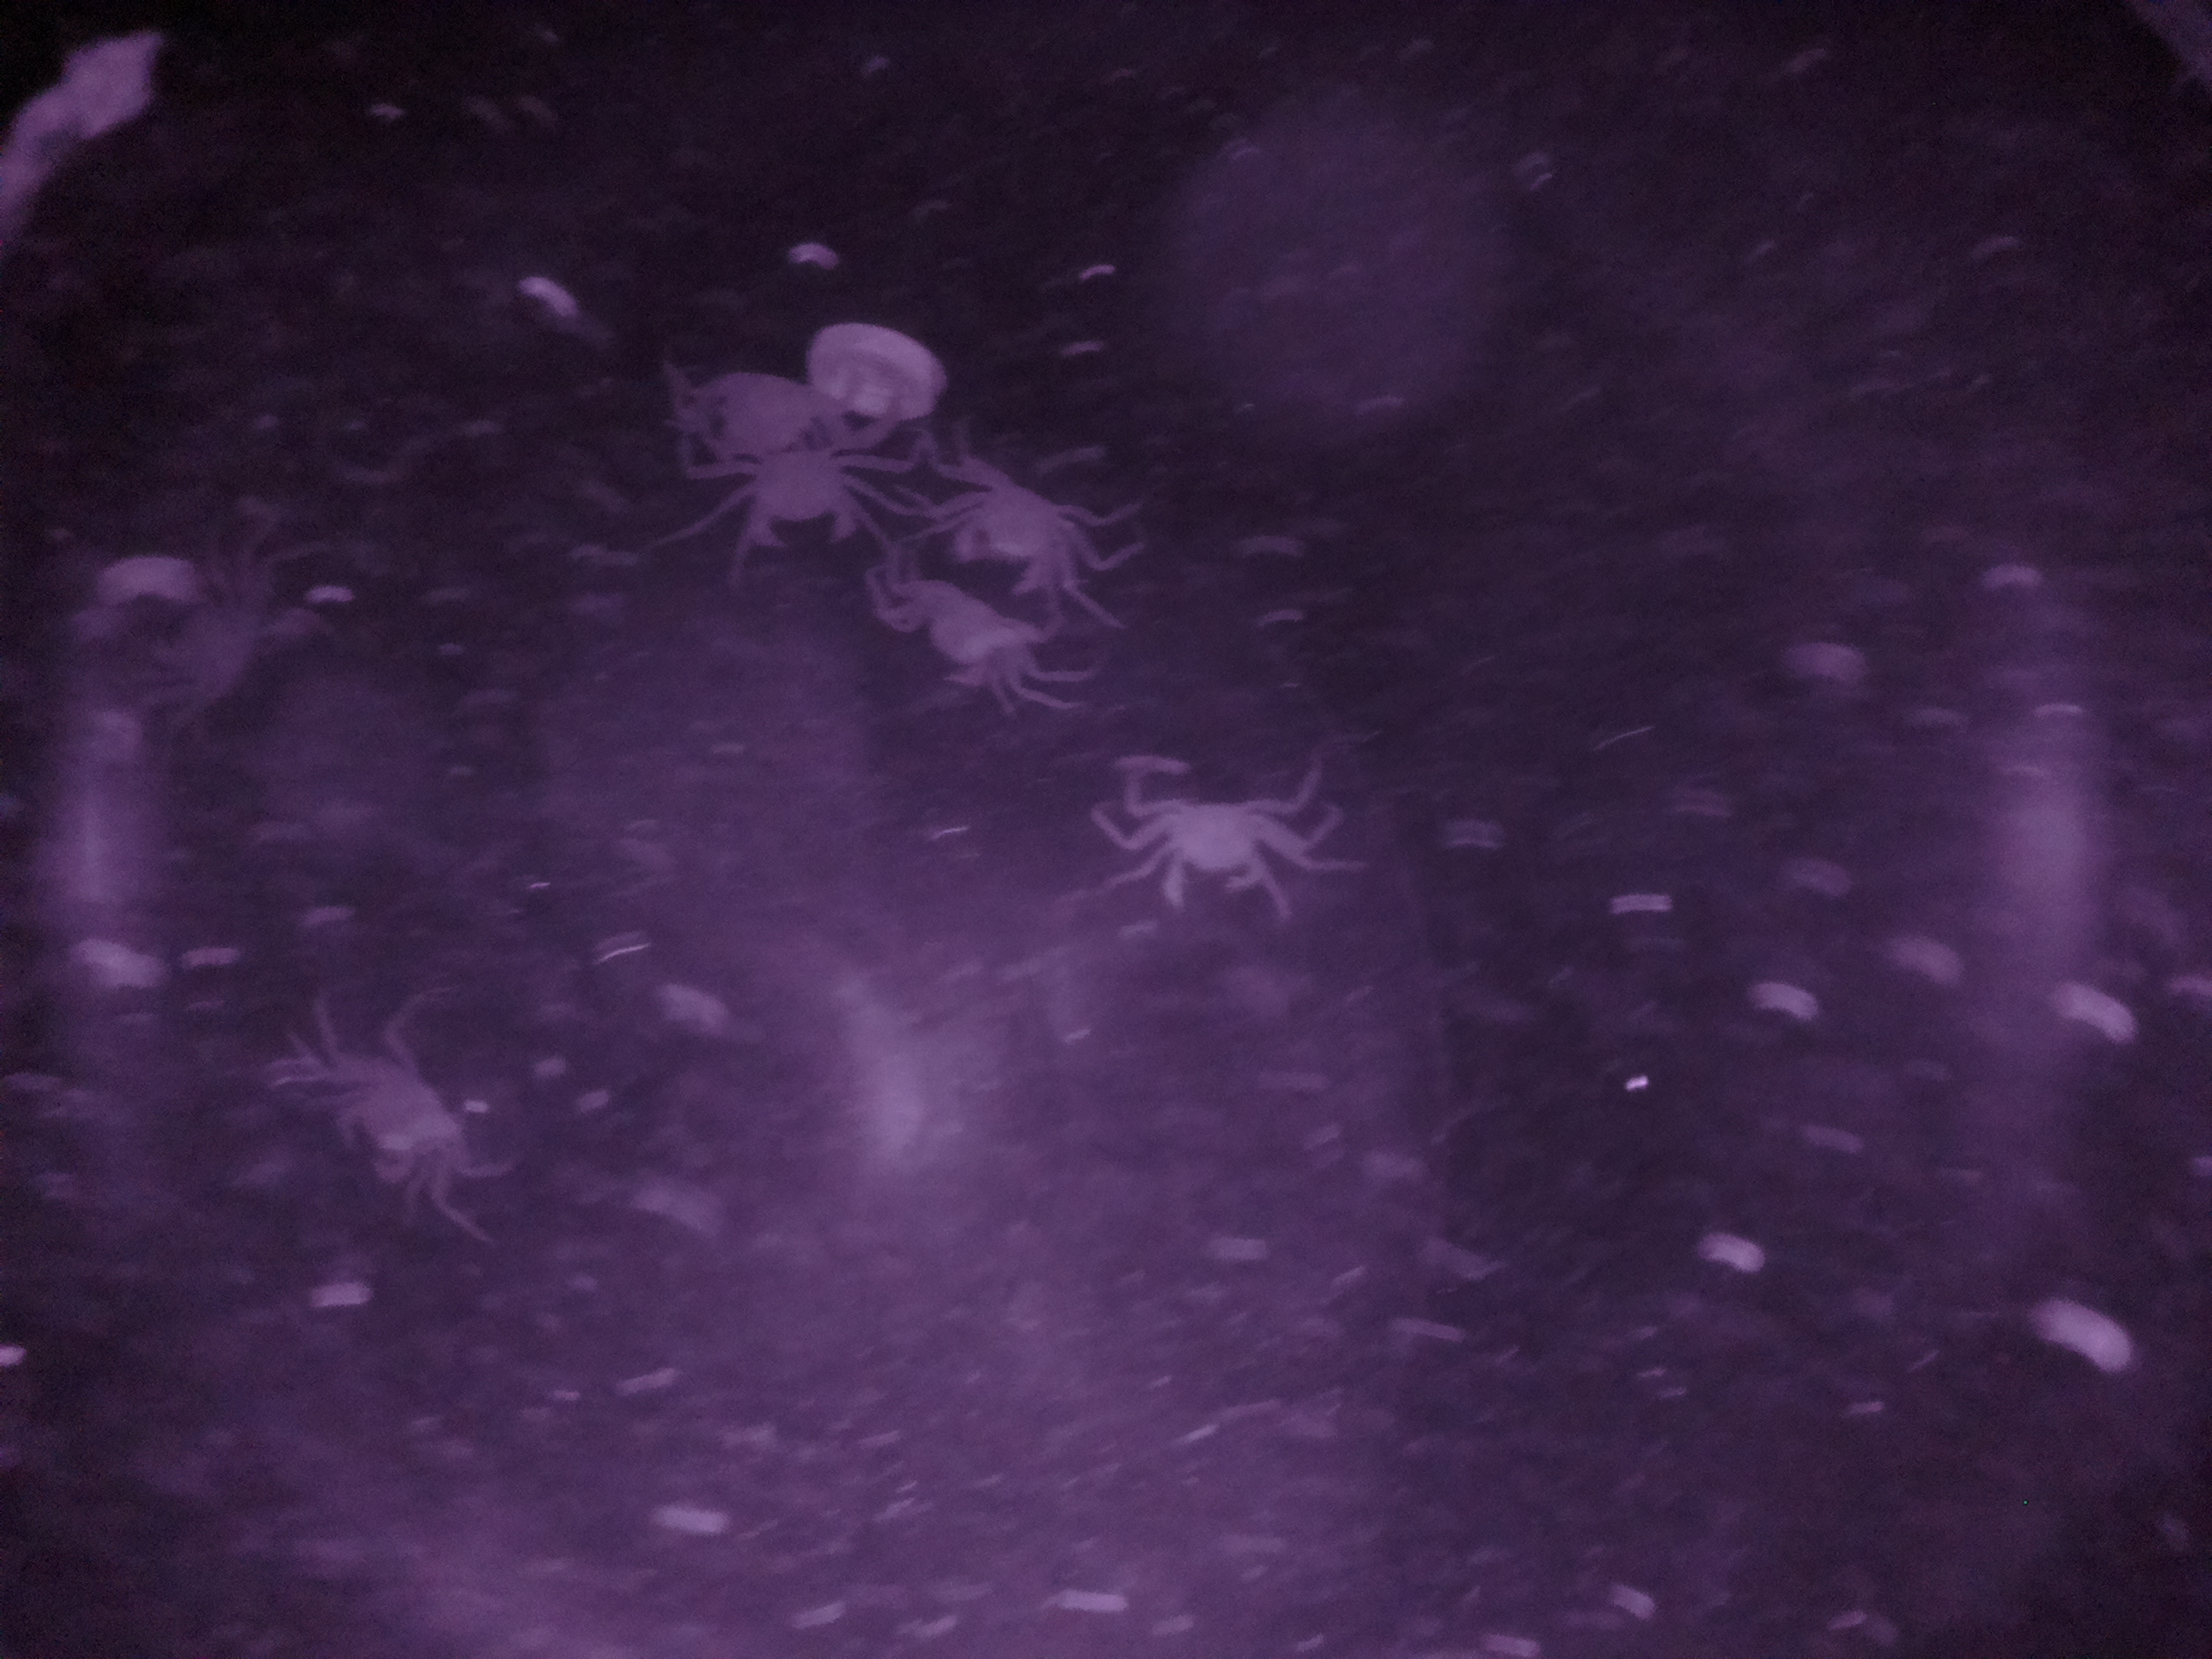Crab: (1108, 758, 1345, 925), (873, 565, 1076, 720)
